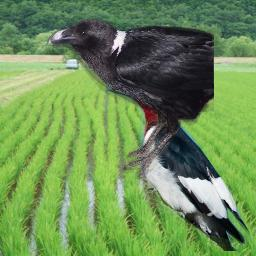Crow: (47, 18, 214, 181)
Woodpecker: (105, 71, 254, 251)
